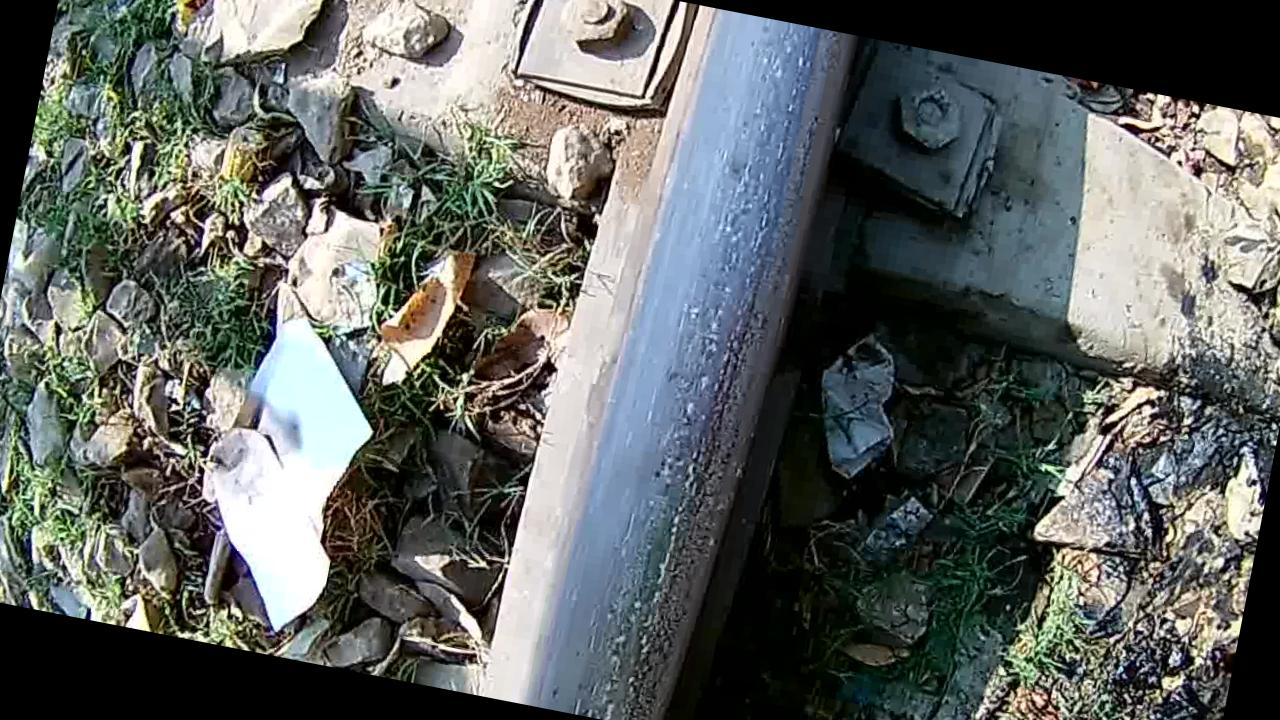clip_missing: (555, 6, 818, 720)
